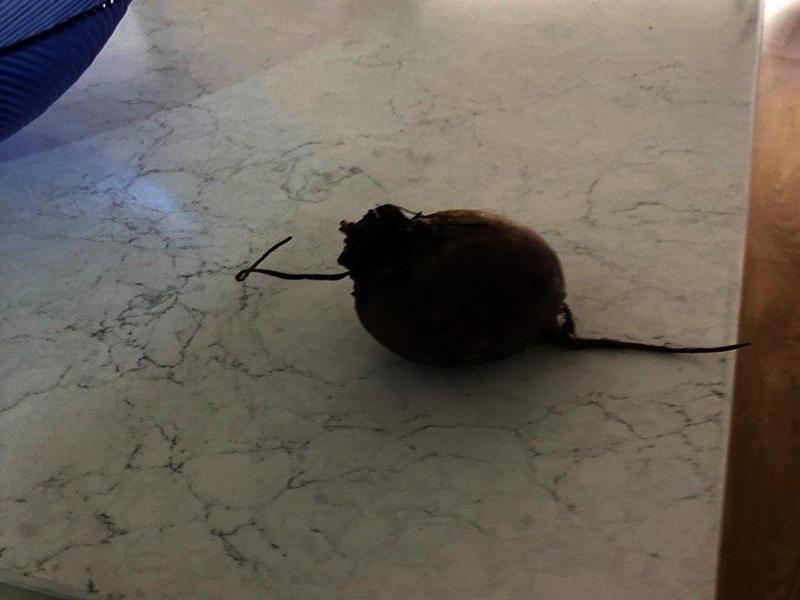Beet: (236, 207, 755, 366)
